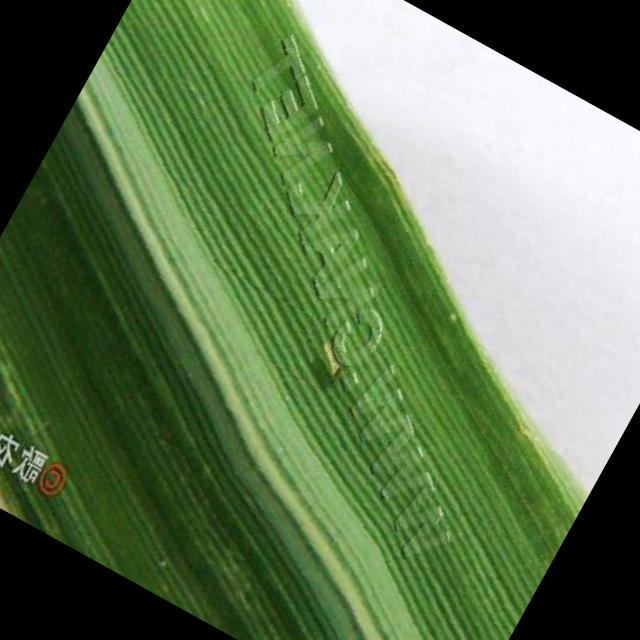leaf-folder: (304, 329, 354, 382)
